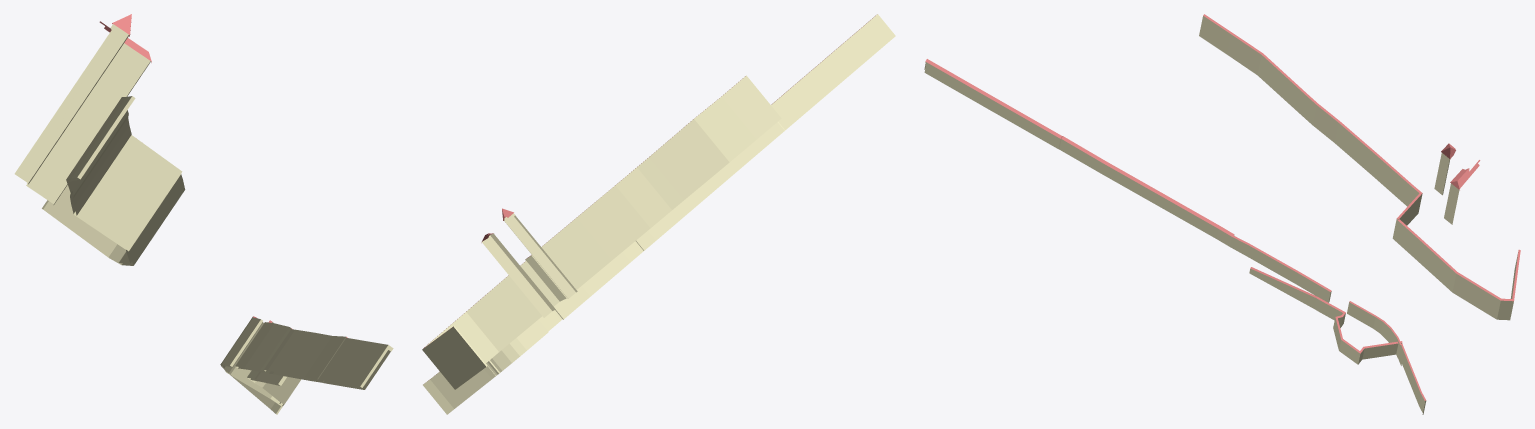
Rendered from tile_032.glb.
3 renders of one model, left to right at view 1: azimuth 30°, elevation 25°; view 2: azimuth 150°, elevation 25°; view 3: azimuth 270°, elevation 25°, orthographic. The views are drawn at different scales.
Visible parts, largest first — view 1: Batched_Building_ID_2C885538-4511-4FBB-AA80-244D8917DF73; view 2: Batched_Building_ID_2C885538-4511-4FBB-AA80-244D8917DF73; view 3: Batched_Building_ID_2C885538-4511-4FBB-AA80-244D8917DF73.
Part boxes in pixels (bbox=[...]): Batched_Building_ID_2C885538-4511-4FBB-AA80-244D8917DF73: bbox=[14, 14, 393, 414]; Batched_Building_ID_2C885538-4511-4FBB-AA80-244D8917DF73: bbox=[422, 14, 895, 414]; Batched_Building_ID_2C885538-4511-4FBB-AA80-244D8917DF73: bbox=[924, 14, 1520, 414].
Size of the model in its own units: 94.47 by 112 by 197.
